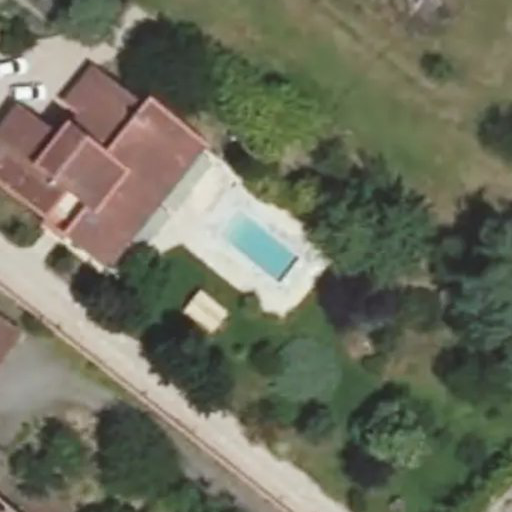pool: (195, 228, 315, 256)
